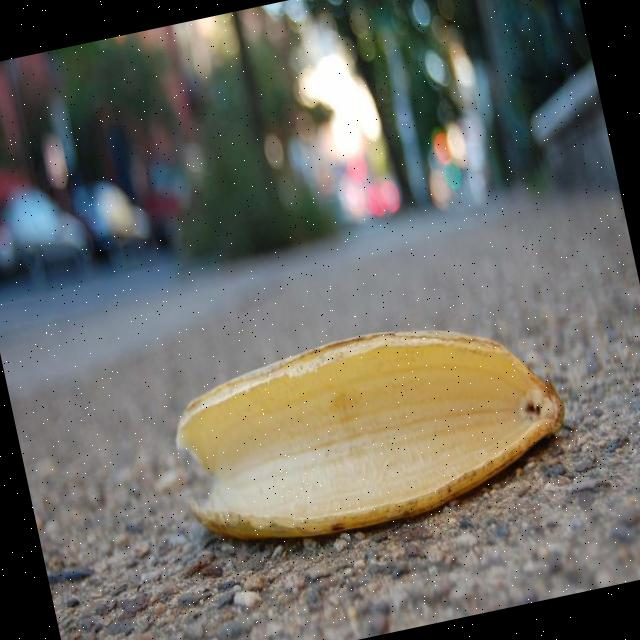banana-peel: (160, 294, 580, 564)
